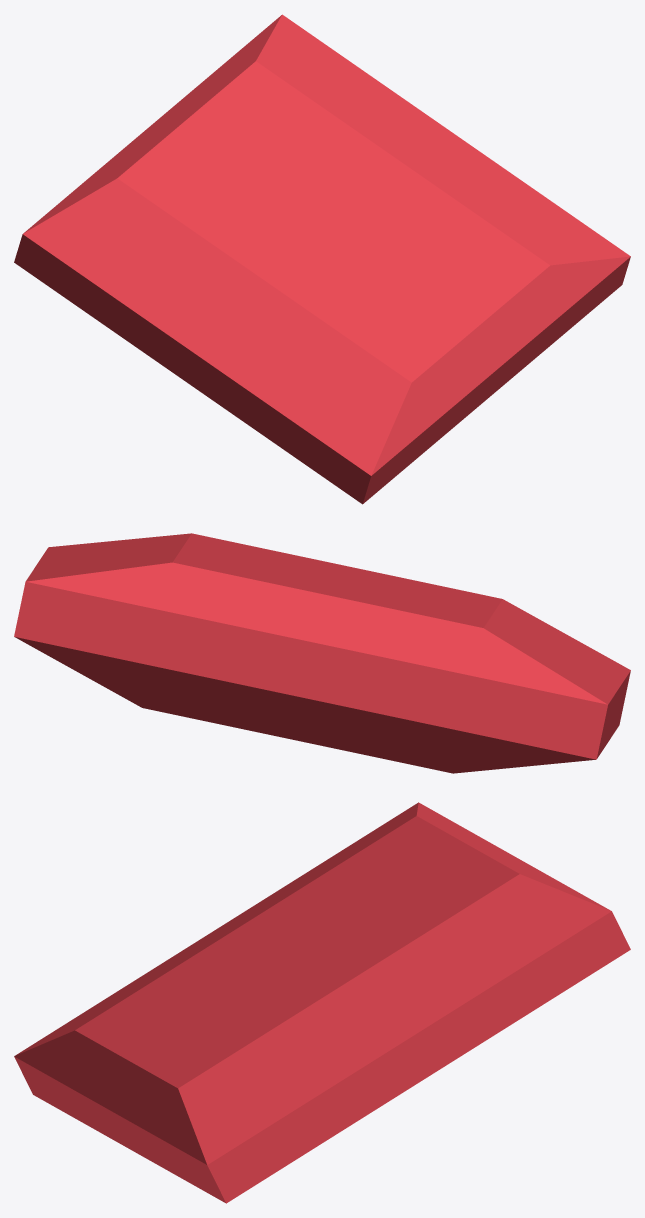
Rendered from Cusion.002.fbx.
3 renders of one model, top to bottom at view 1: azimuth 30°, elevation 25°; view 2: azimuth 150°, elevation 25°; view 3: azimuth 270°, elevation 25°, orthographic. The views are drawn at different scales.
Visible parts, largest first — view 1: Cusion.002; view 2: Cusion.002; view 3: Cusion.002.
Boxes of the visible parts, bbox=[...] form: Cusion.002: bbox=[14, 14, 630, 504]; Cusion.002: bbox=[14, 533, 630, 773]; Cusion.002: bbox=[14, 802, 630, 1203].
Bounding box in the file's own units: 53.34 × 25.36 × 50.22.
